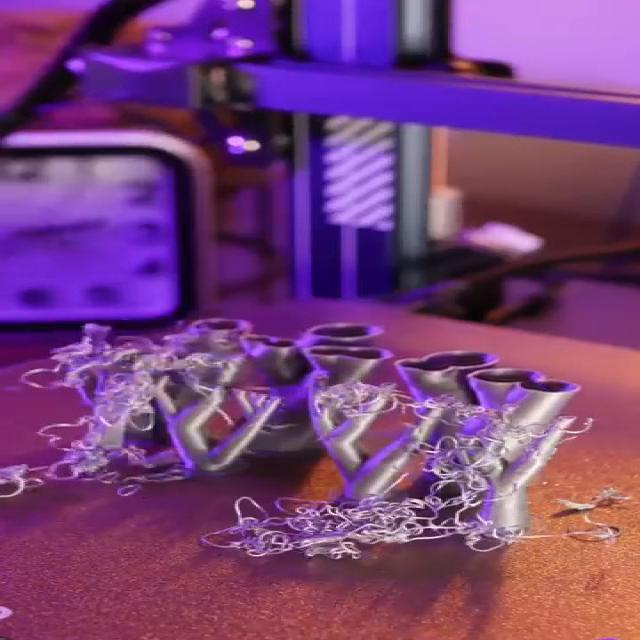spaghetti: (4, 346, 640, 566)
